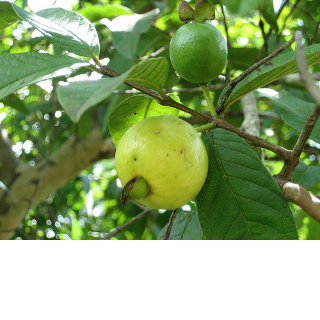oi: (109, 114, 212, 213)
